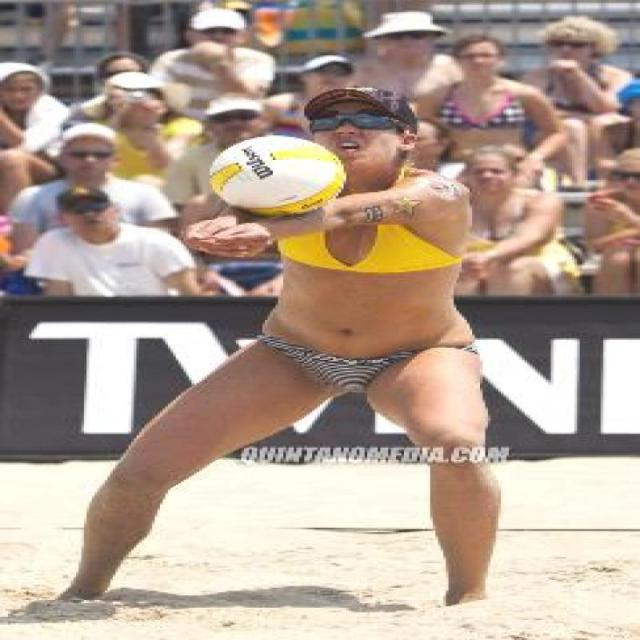volleyball: (207, 135, 349, 217)
